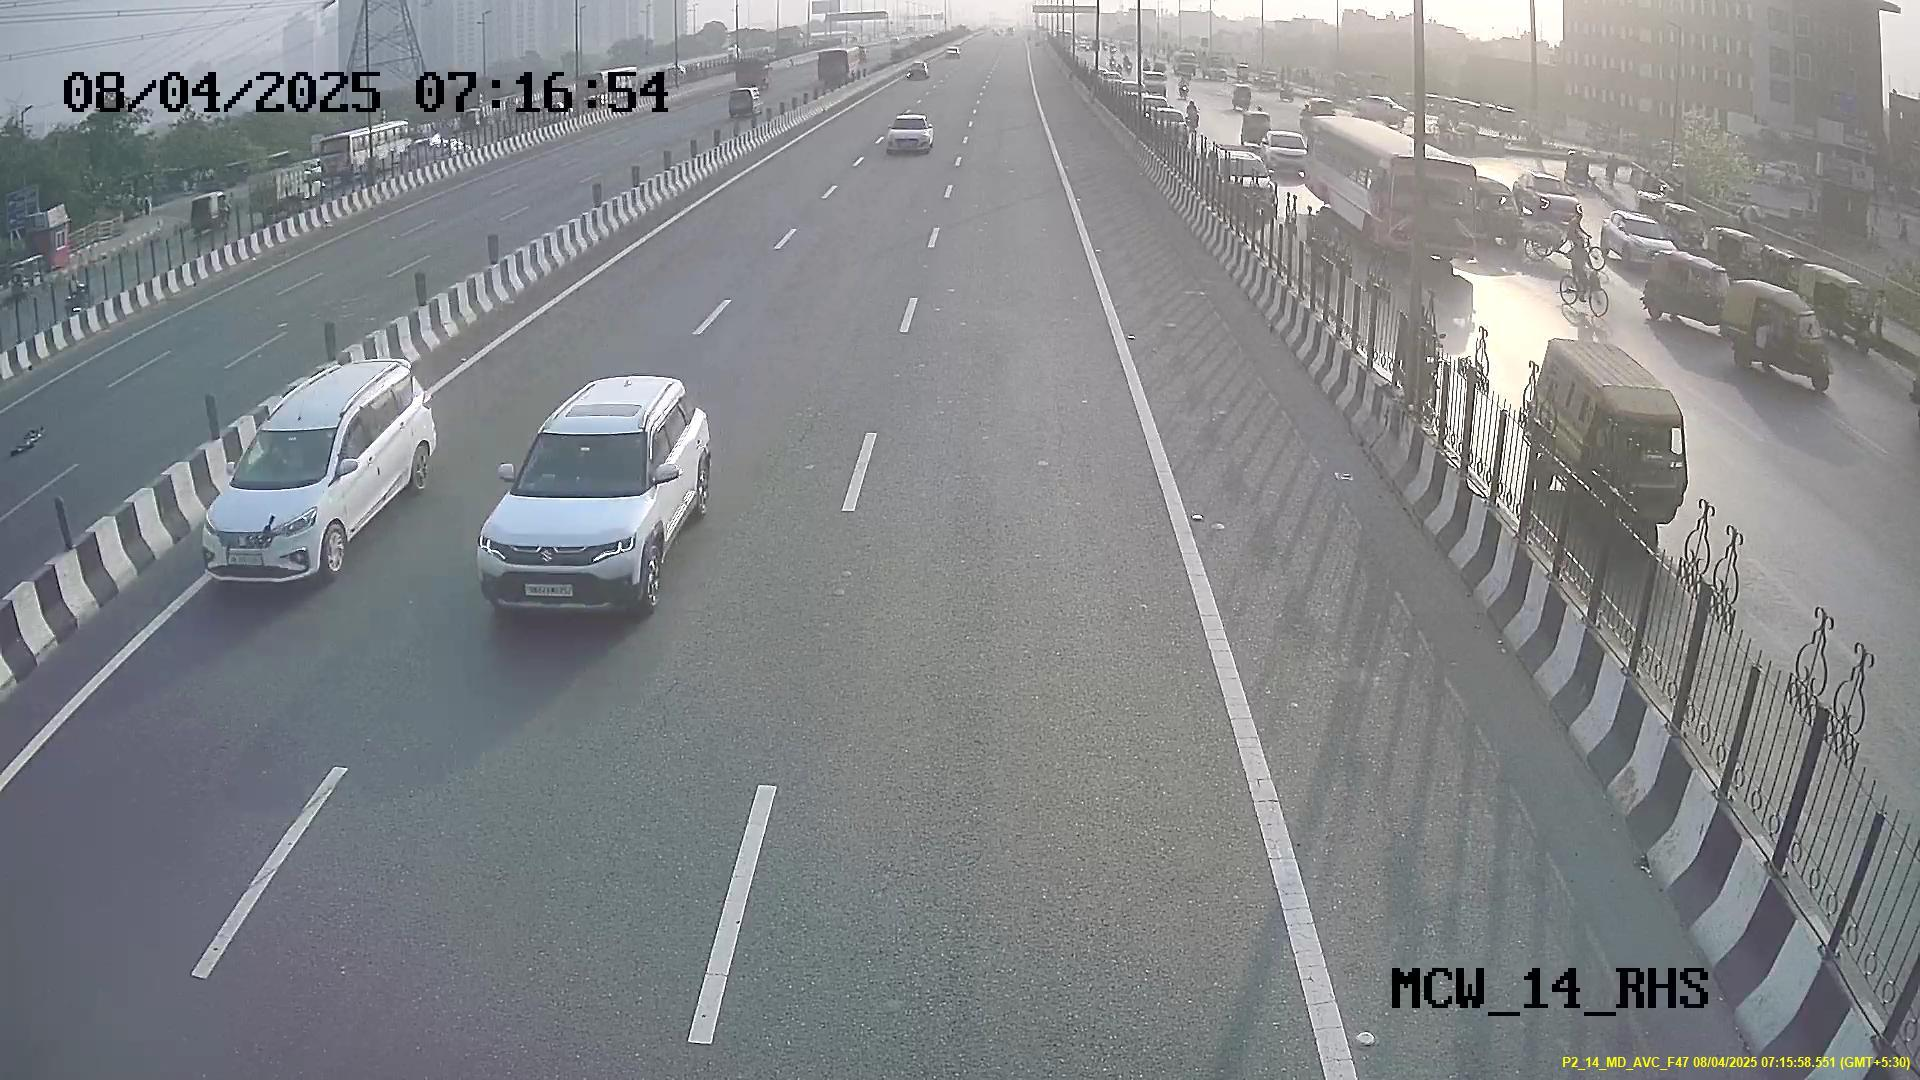car: (477, 401, 680, 621), (196, 389, 382, 588)
